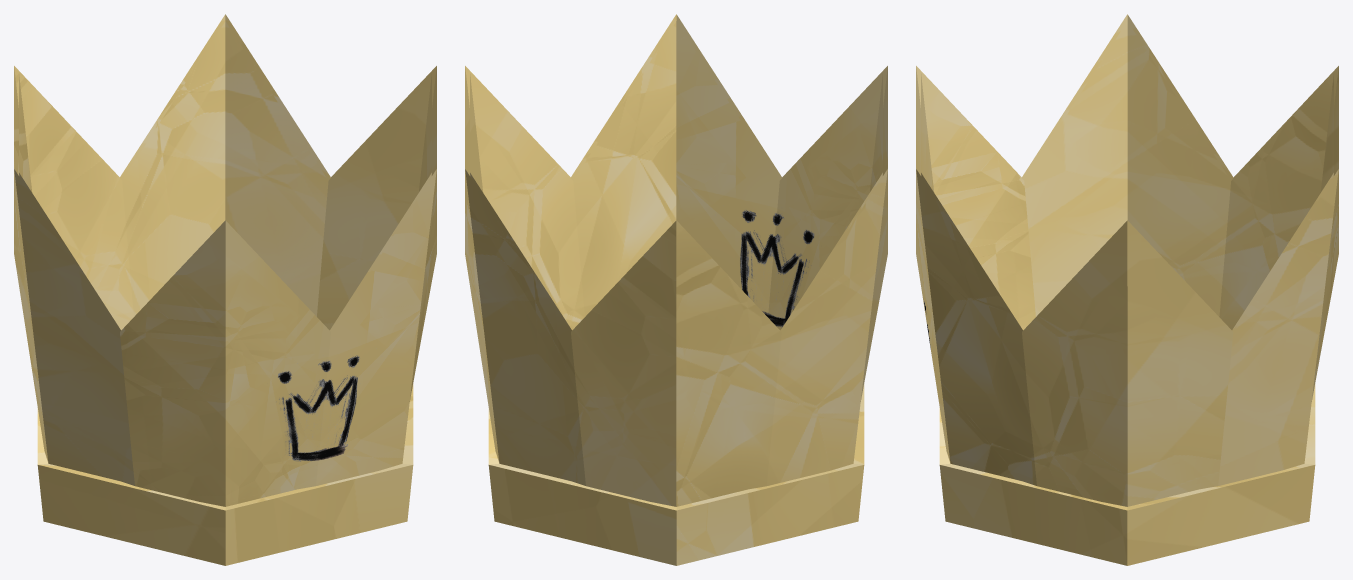
File: PaperCrown_Wearable_round.fbx
The picture shows the model from 3 angles, left to right: view 1: azimuth 30°, elevation 25°; view 2: azimuth 150°, elevation 25°; view 3: azimuth 270°, elevation 25°; orthographic projection.
Parts seen in each view (by area): view 1: Torus.001; view 2: Torus.001; view 3: Torus.001.
Part boxes in pixels (bbox=[...]): Torus.001: bbox=[14, 14, 436, 565]; Torus.001: bbox=[465, 14, 887, 565]; Torus.001: bbox=[916, 14, 1338, 565].
Size of the model in its own units: 0.2597 by 0.2114 by 0.2249.
